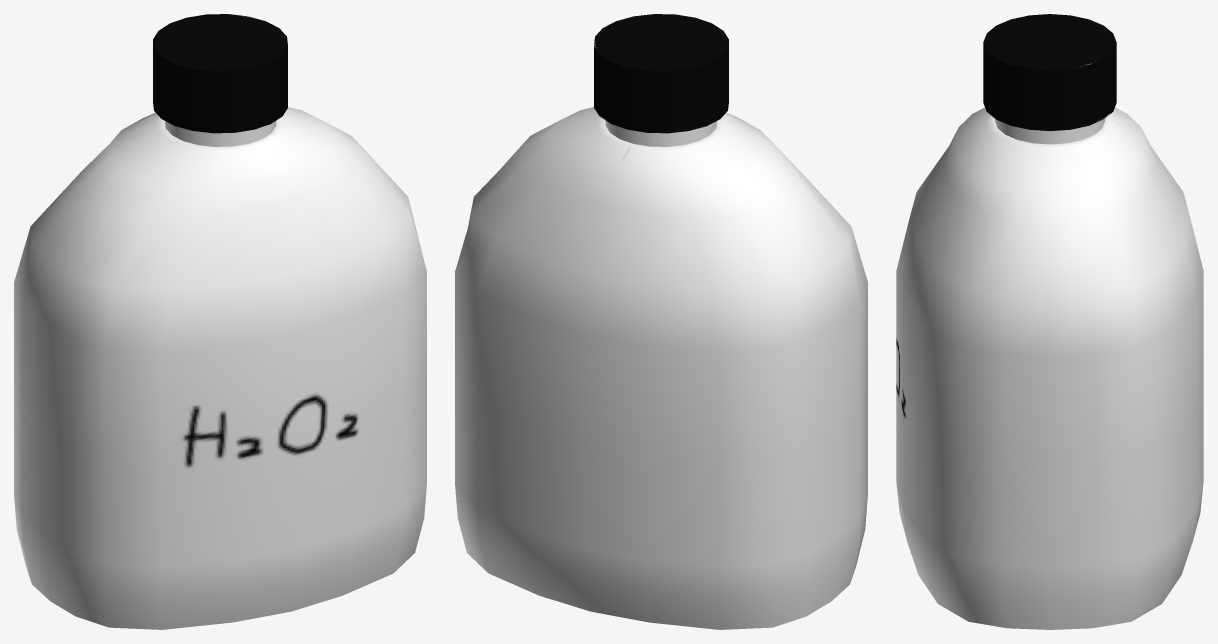
File: Hydrogen Peroxide.fbx
3 views of the same model, side by side, from view 1: azimuth 30°, elevation 25°; view 2: azimuth 150°, elevation 25°; view 3: azimuth 270°, elevation 25° (orthographic). The views are drawn at different scales.
Parts seen in each view (by area): view 1: Hydrogen_Peroxide1; view 2: Hydrogen_Peroxide1; view 3: Hydrogen_Peroxide1.
Boxes of the visible parts, x1=… form: Hydrogen_Peroxide1: x1=14, y1=14, x2=426, y2=629; Hydrogen_Peroxide1: x1=455, y1=14, x2=867, y2=629; Hydrogen_Peroxide1: x1=896, y1=14, x2=1203, y2=629.
Bounding box in the file's own units: 1.67 × 2.32 × 1.27.
1 material, 1 textured.
